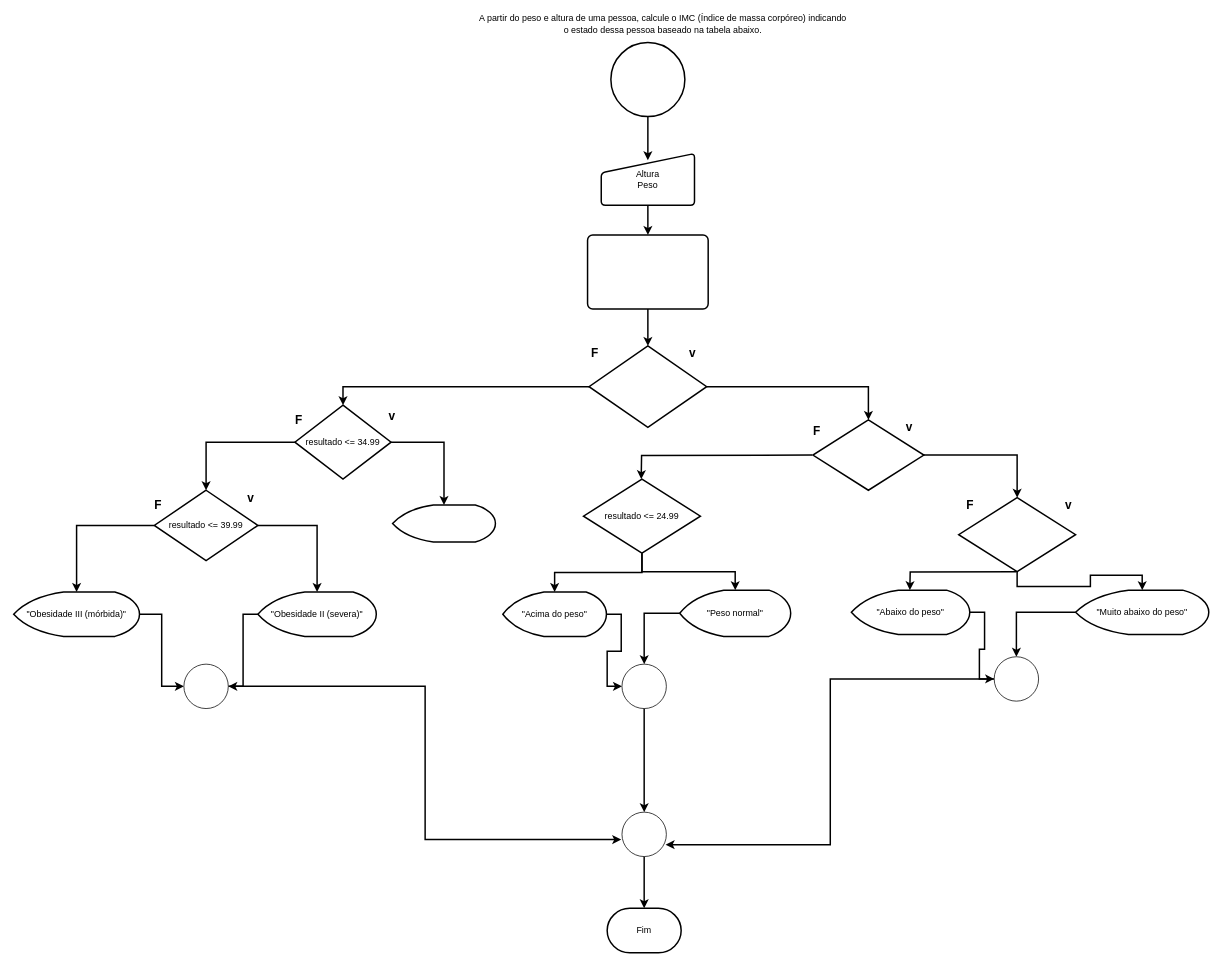
Image size: 1222x966. Some labels were removed from this diagram. Here are the shapes that lost their labels. From the top down, the box of each, then its label:
(610, 41, 685, 117): Inicio
(586, 234, 709, 309): resultado = peso / (altura ^2 )
(588, 345, 707, 428): resultado == 1 e 29.99
(812, 419, 924, 491): resultado == 1 e 18,49
(391, 504, 496, 542): "Obesidade I"
(958, 497, 1076, 572): resultado < = 17
